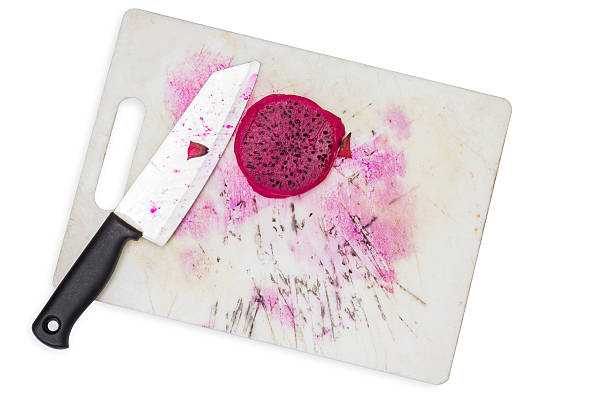knife: (30, 58, 263, 350)
